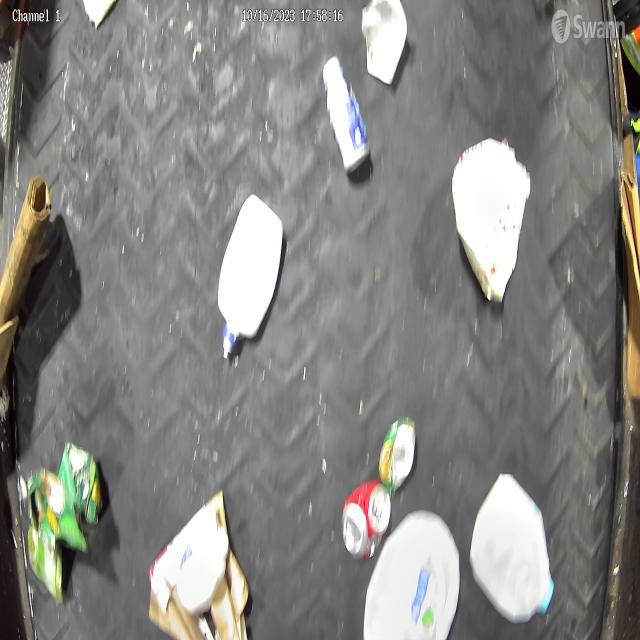can: (322, 55, 369, 176), (342, 481, 391, 561), (378, 418, 416, 490)
milk_jug: (470, 472, 554, 624), (362, 510, 460, 640), (217, 195, 284, 361)
